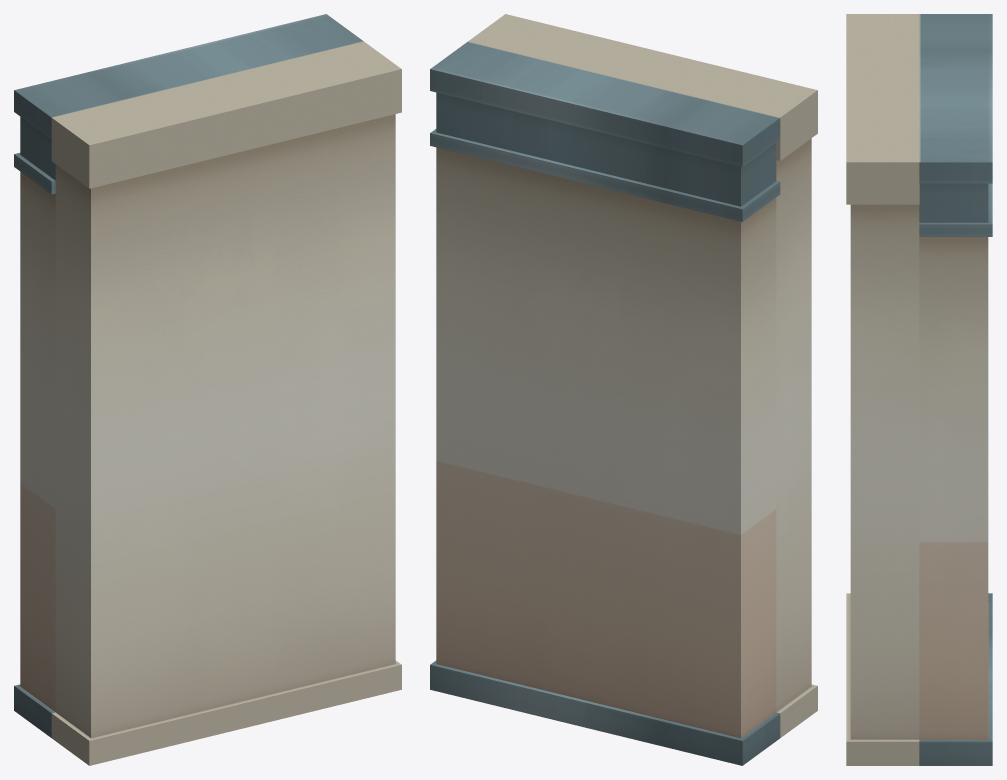
File: set_pillar_01_04.fbx
3 views of the same model, side by side, from view 1: azimuth 30°, elevation 25°; view 2: azimuth 150°, elevation 25°; view 3: azimuth 270°, elevation 25° (orthographic). The views are drawn at different scales.
Visible parts, largest first — view 1: set_pillar_01_04; view 2: set_pillar_01_04; view 3: set_pillar_01_04.
Part boxes in pixels (<box>): set_pillar_01_04: <box>14,14,401,765</box>; set_pillar_01_04: <box>430,14,817,765</box>; set_pillar_01_04: <box>846,14,992,765</box>.
Bounding box in the file's own units: 158 × 300 × 66.
